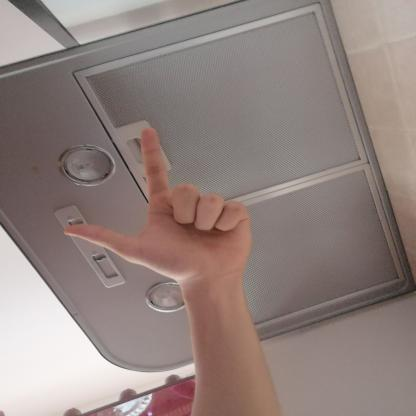LAAM: (50, 121, 263, 292)
